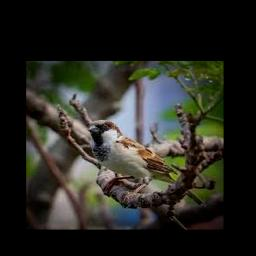Sparrow: (88, 119, 177, 200)
